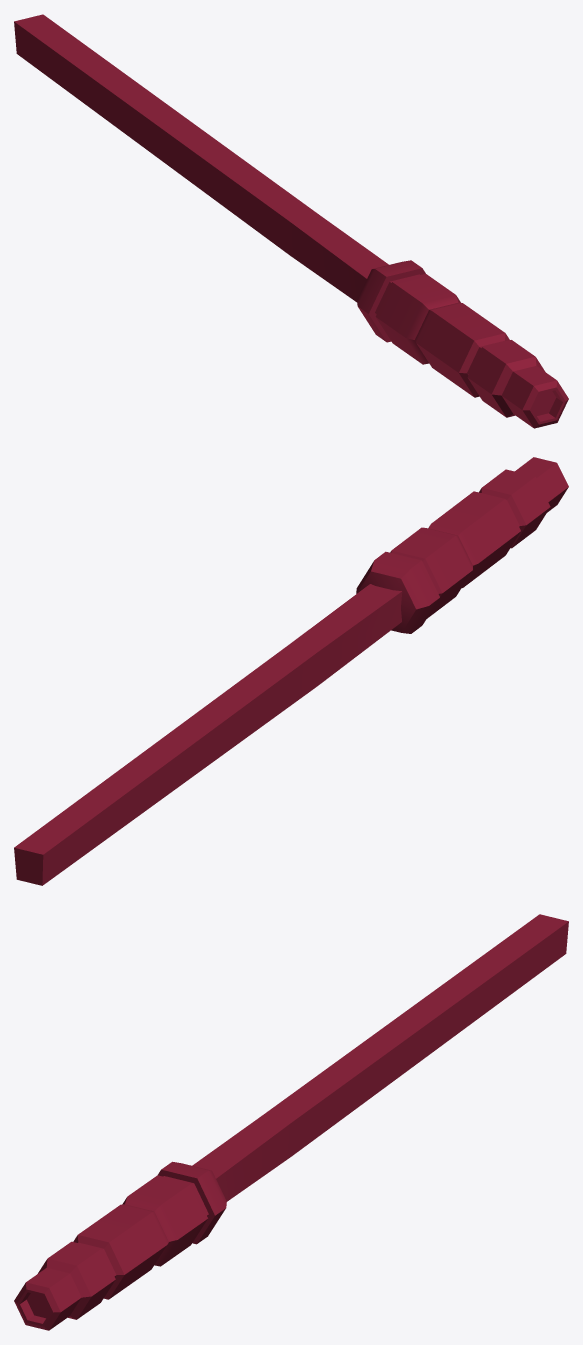
File: SM_ FE_Props_Fierhose01.fbx
3 renders of one model, top to bottom at view 1: azimuth 30°, elevation 25°; view 2: azimuth 150°, elevation 25°; view 3: azimuth 330°, elevation 25°, orthographic.
Visible parts, largest first — view 1: Hose; view 2: Hose; view 3: Hose.
Part boxes in pixels (box(x1,y1,x2,y2)): Hose: box(14, 14, 568, 428); Hose: box(14, 457, 568, 885); Hose: box(14, 914, 568, 1330).
Size of the model in its own units: 10.15 by 8.83 by 126.
